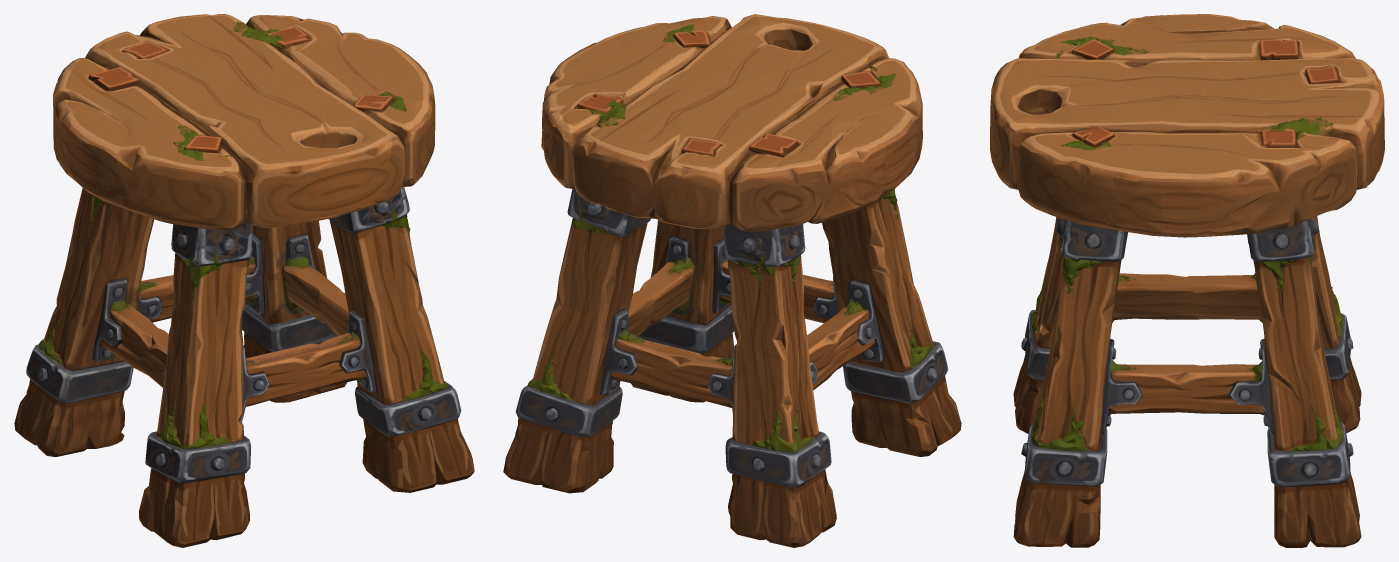
Rendered from stool_v2.glb.
3 views of the same model, side by side, from view 1: azimuth 30°, elevation 25°; view 2: azimuth 150°, elevation 25°; view 3: azimuth 270°, elevation 25° (orthographic). The views are drawn at different scales.
Size of the model in its own units: 1.8 by 1.9 by 1.78.
1 material, 1 textured.
